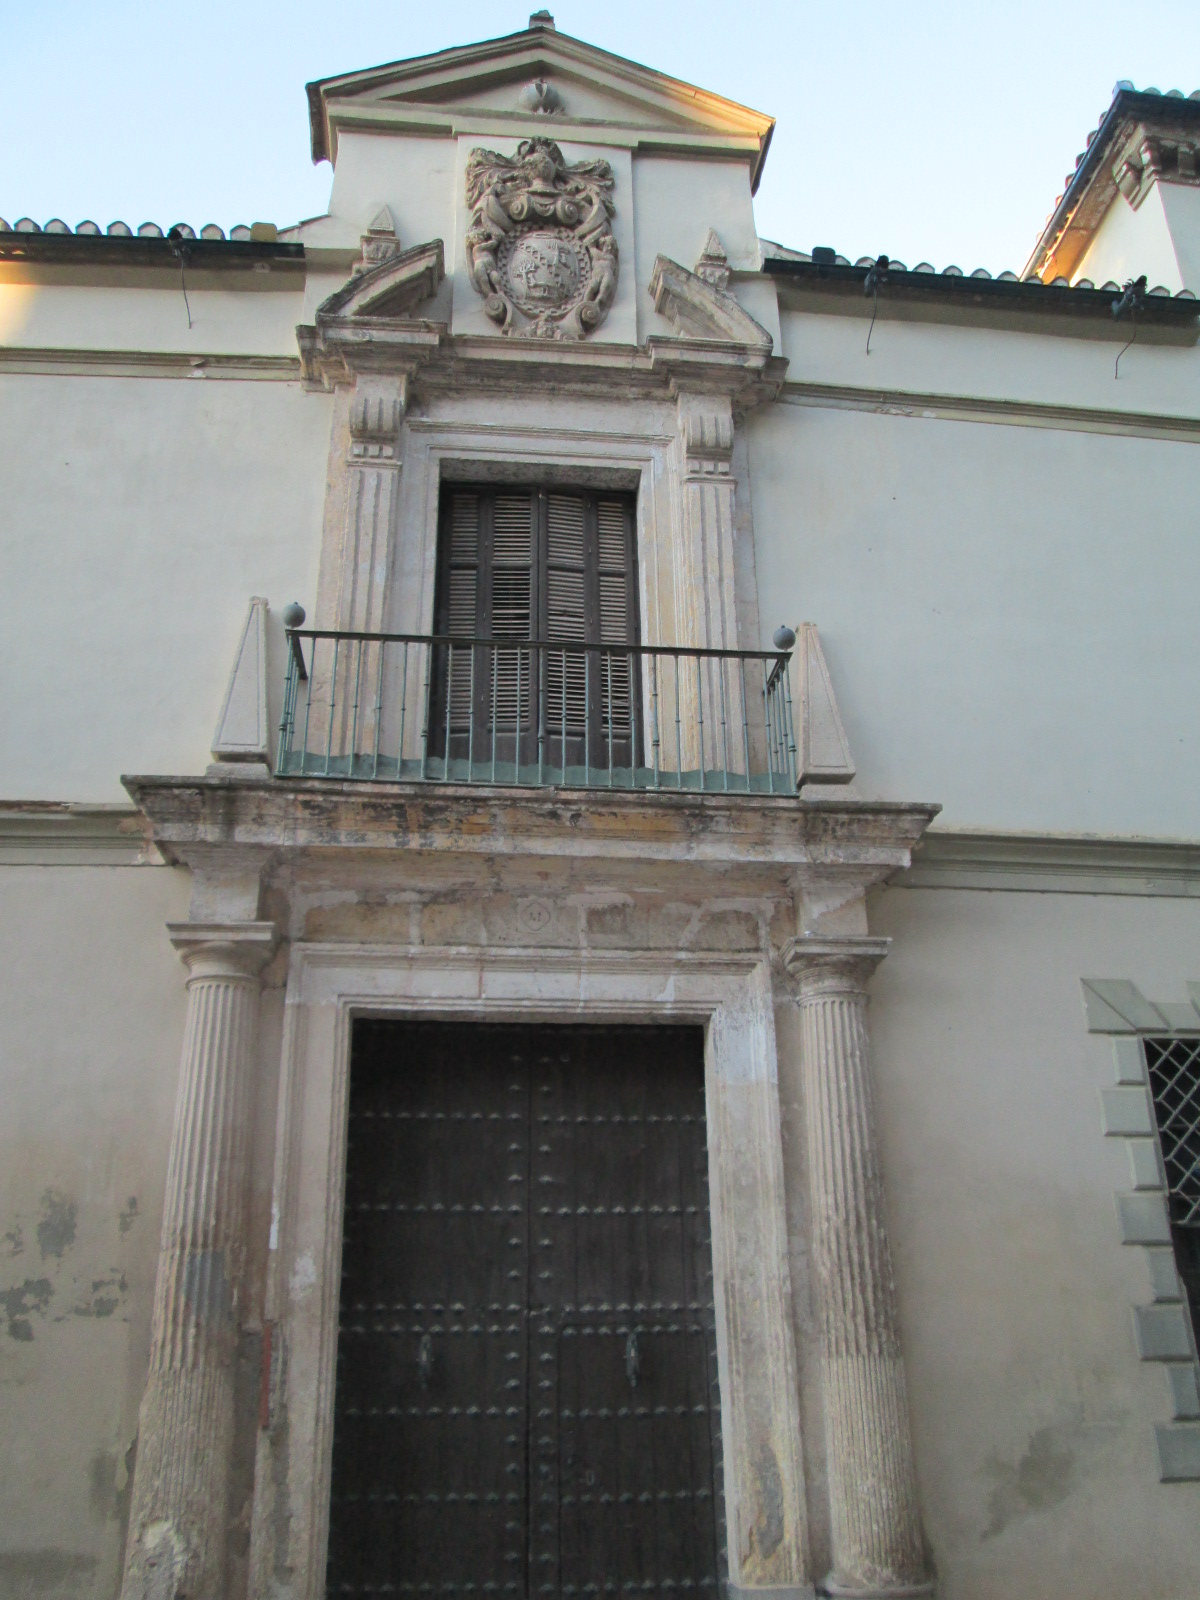fronton: (297, 15, 783, 157)
fronton-partido: (294, 234, 778, 377)
vano-adintelado: (268, 939, 785, 1600), (408, 437, 666, 787)
